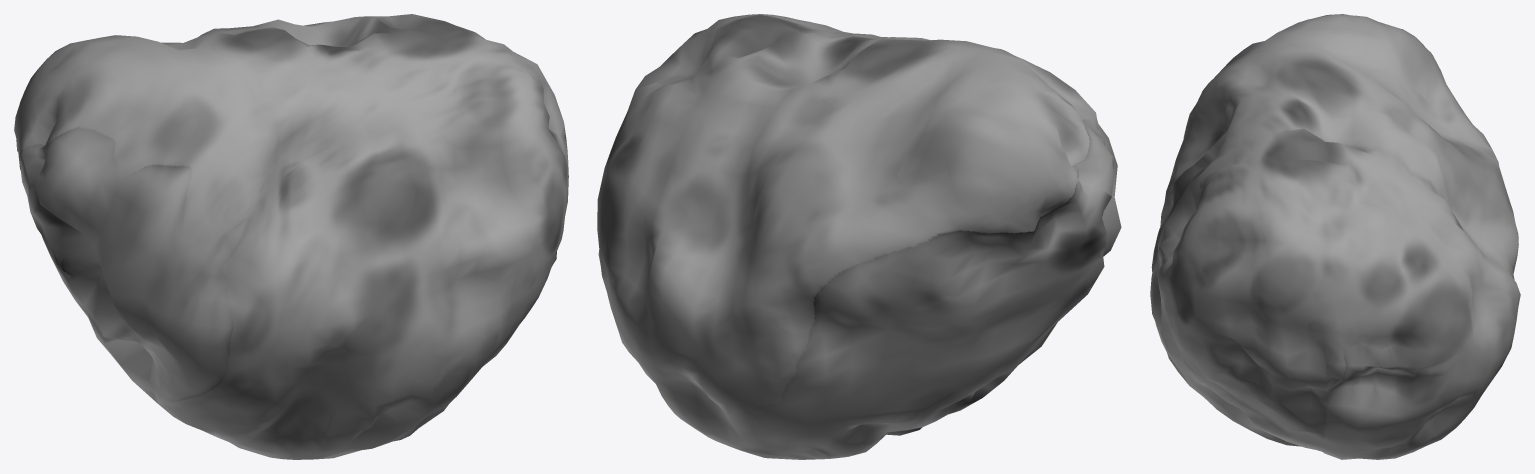
The model's file is asteroids.obj.
3 renders of one model, left to right at view 1: azimuth 30°, elevation 25°; view 2: azimuth 150°, elevation 25°; view 3: azimuth 270°, elevation 25°, orthographic. The views are drawn at different scales.
Parts seen in each view (by area): view 1: asteroidBaked_Cube.001; view 2: asteroidBaked_Cube.001; view 3: asteroidBaked_Cube.001.
Boxes of the visible parts, left/top/right/bottom form: asteroidBaked_Cube.001: left=14, top=14, right=568, bottom=459; asteroidBaked_Cube.001: left=597, top=14, right=1121, bottom=459; asteroidBaked_Cube.001: left=1150, top=14, right=1520, bottom=459.
Size of the model in its own units: 2.29 by 1.87 by 1.8.
